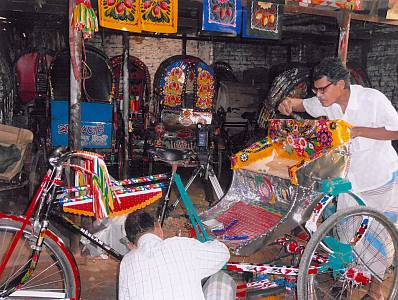Rickshaw: (59, 60, 394, 299), (43, 44, 116, 179), (154, 52, 220, 178), (107, 48, 154, 171), (10, 41, 54, 131)
